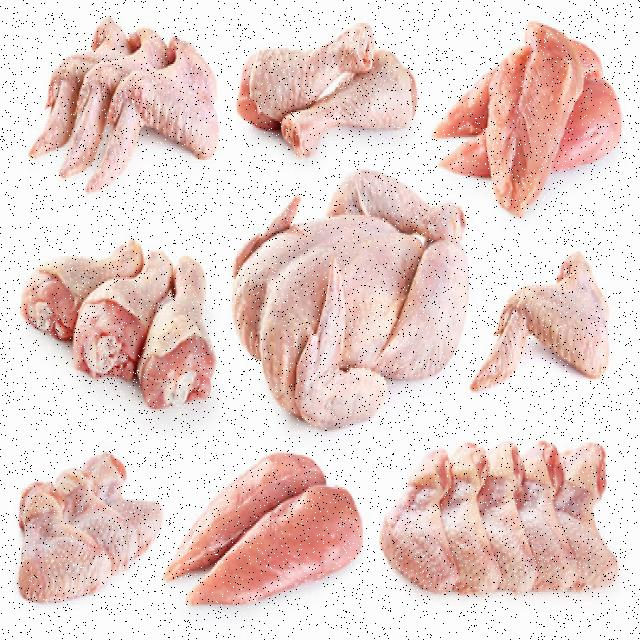Chicken: (239, 174, 456, 406), (371, 423, 616, 595), (166, 437, 371, 640), (35, 235, 205, 433), (440, 33, 622, 202), (231, 25, 412, 158), (54, 31, 210, 180), (478, 263, 630, 405)
